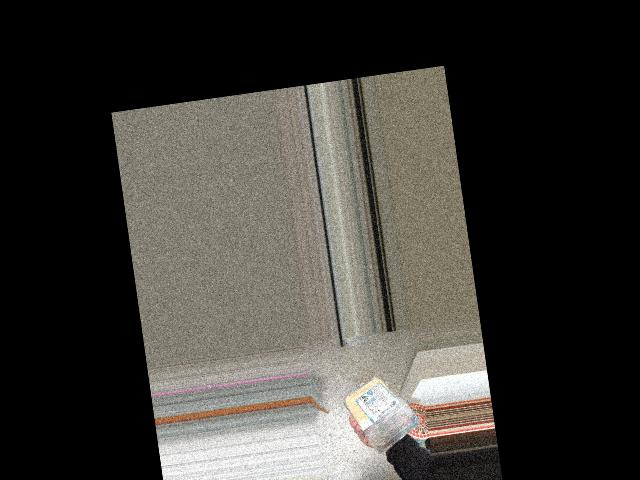cheese: (348, 366, 421, 451)
